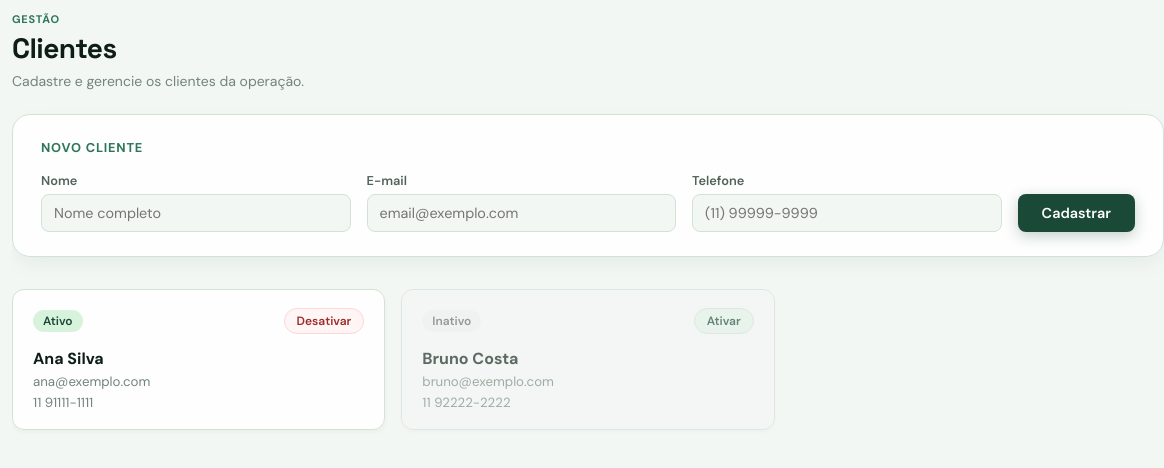
Test: CustomersPage › valida campos obrigatórios antes de enviar o formulário
Expected: the text "Ana Silva" is shown, [33,348,104,369]
Click the button "Cadastrar".
click(1076, 213)  # box [1018,194,1135,232]
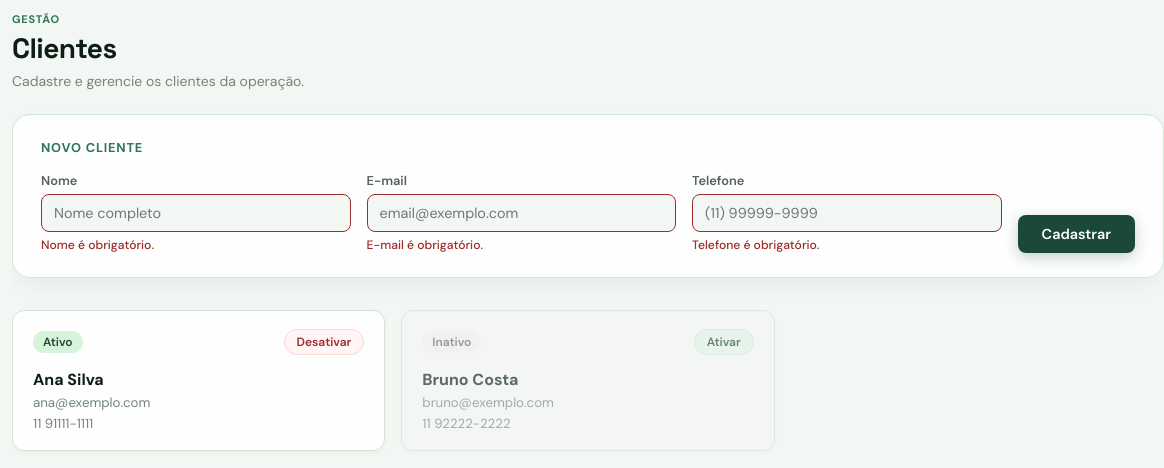
Now the text "Nome é obrigatório." is shown, box [41,237,154,253]
Now the text "E-mail é obrigatório." is shown, box [366,237,483,253]
Now the text "Telefone é obrigatório." is shown, box [692,237,820,253]
